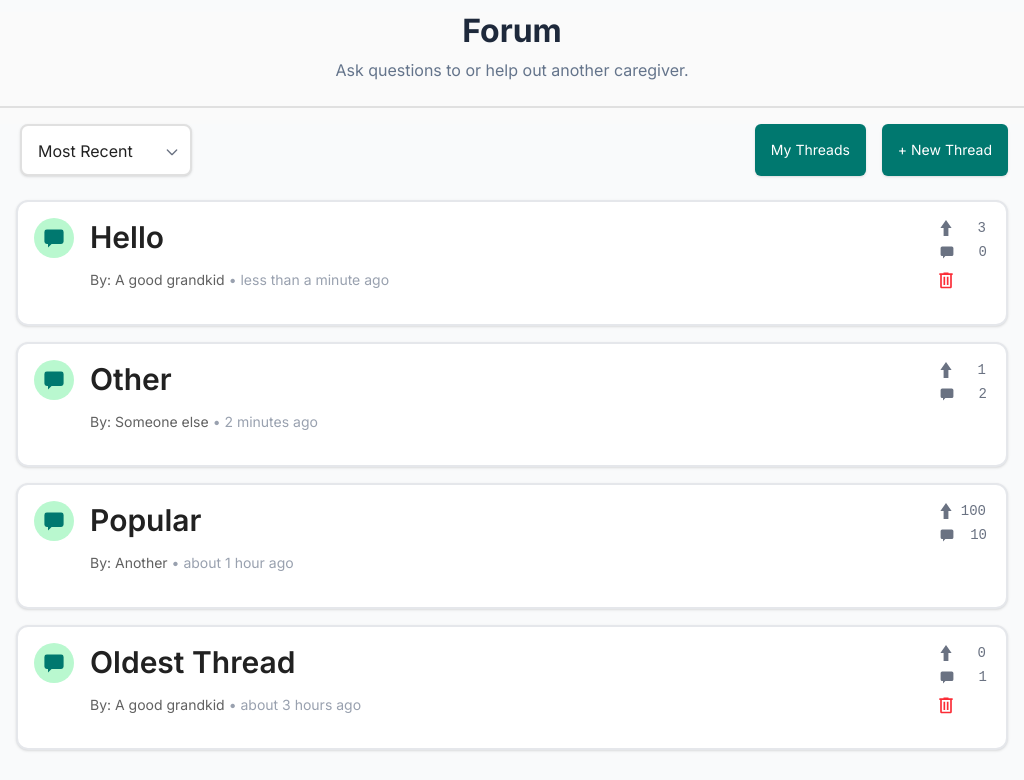
Test case: Forum: UI test cases › filters “My Threads” by username
Expected: the heading "Hello" is shown, [90,219,164,255]
Click the button "My Threads" at (810, 150), box [755,124,866,176]
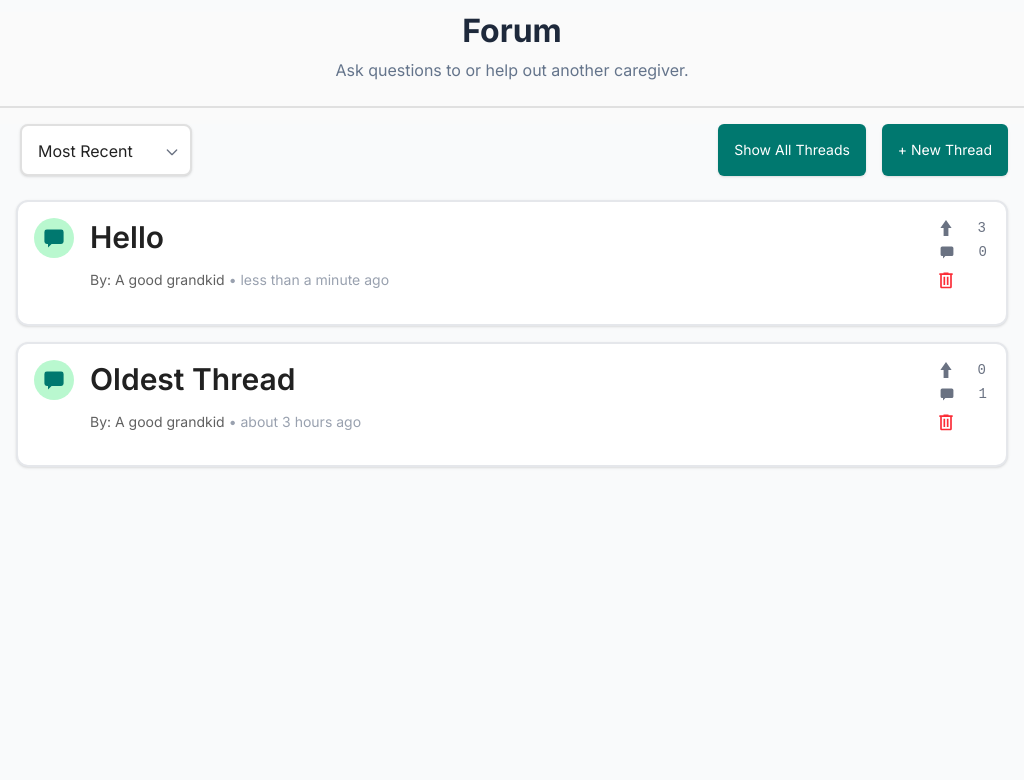
Expected: the heading "Hello" is shown, [90,219,164,255]
Expected: the link "Popular" is gone
